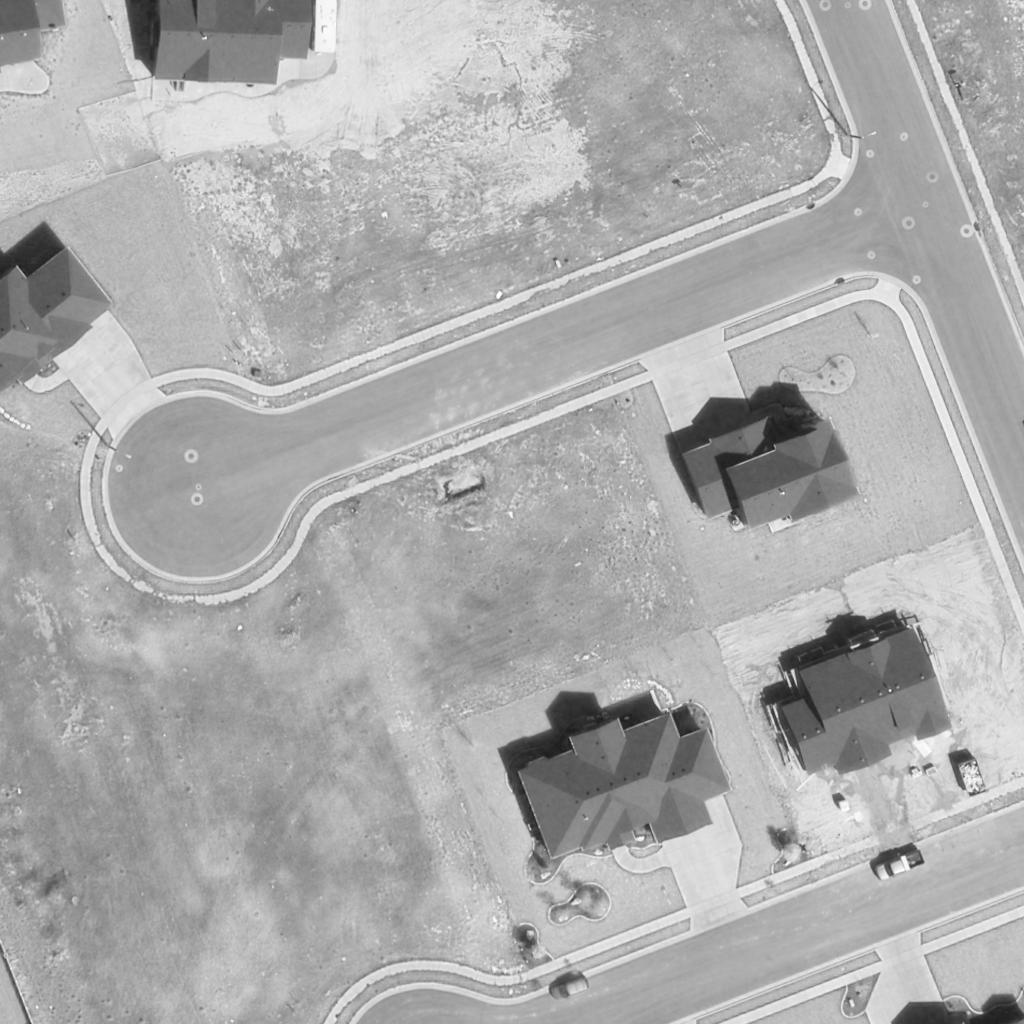vehicle: (872, 849, 926, 883), (548, 975, 590, 1003)
